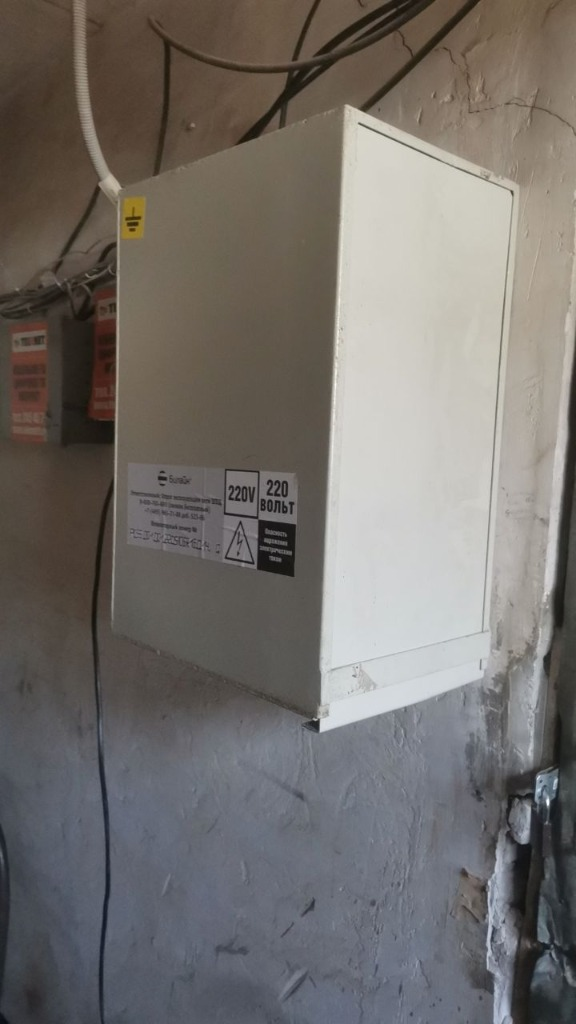sv-5: (91, 95, 521, 743)
